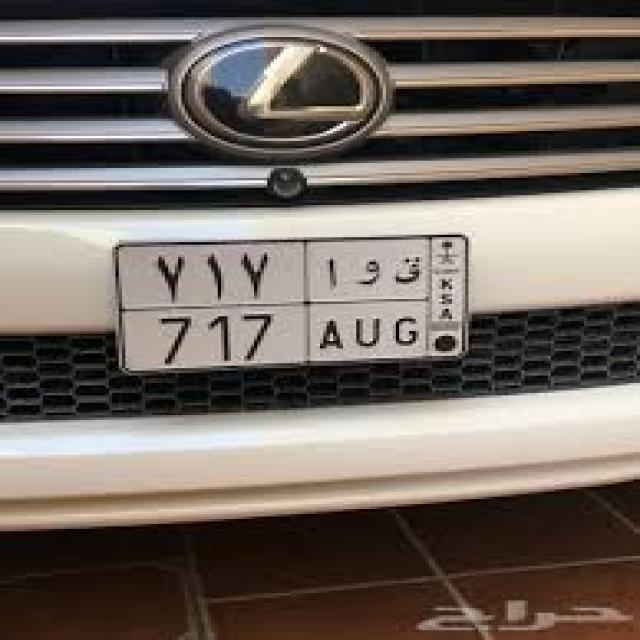license_plate: (109, 232, 472, 376)
